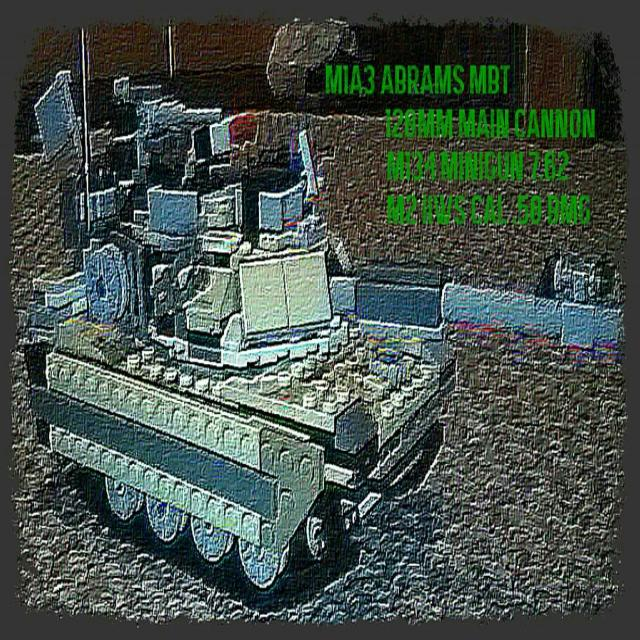tank: (19, 24, 458, 606)
